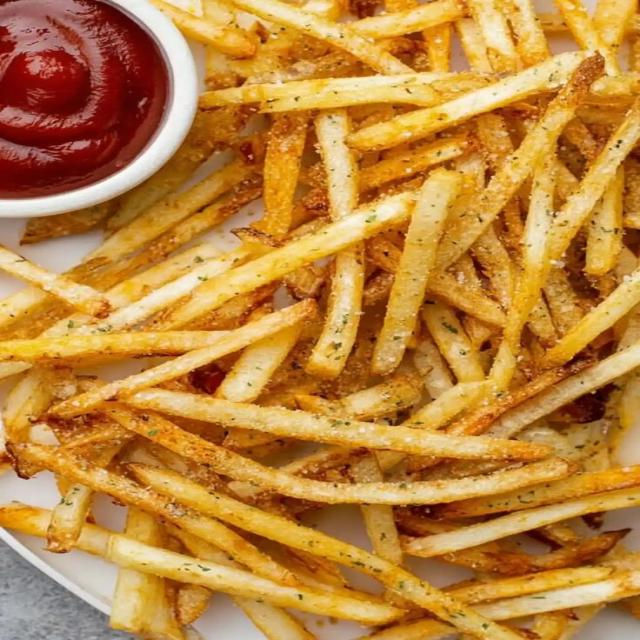potato fries: (0, 0, 639, 639), (348, 53, 583, 150), (373, 170, 461, 373), (0, 246, 109, 317)
